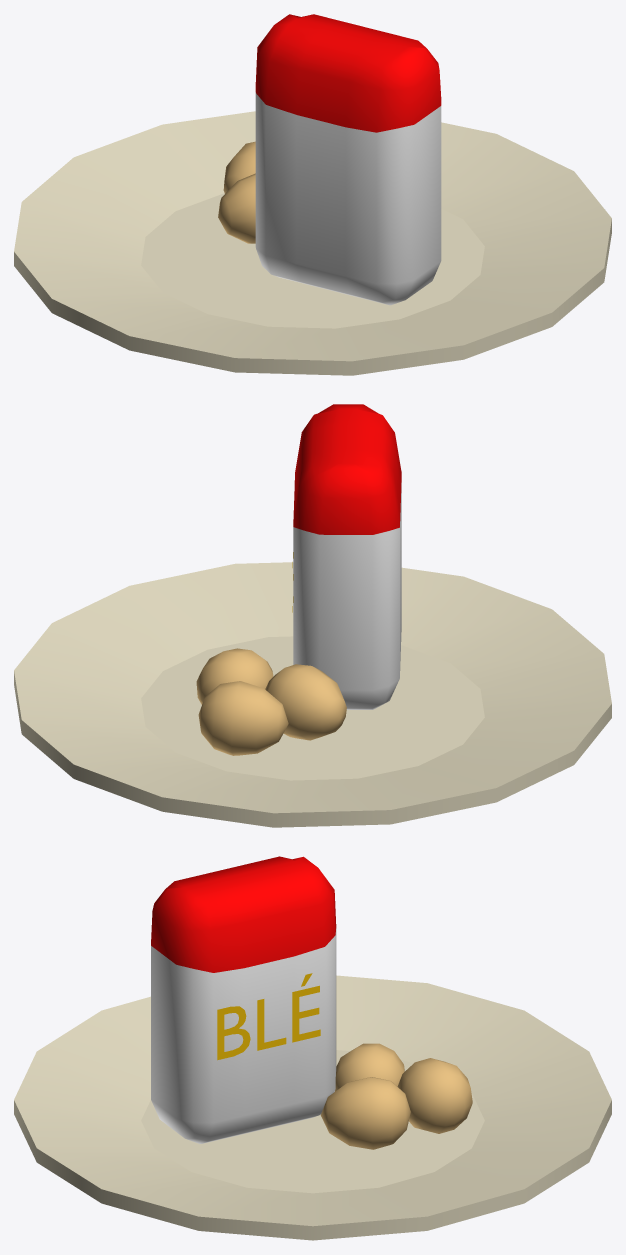
Rendered from PithiviersWashed.fbx.
3 views of the same model, one above another, from view 1: azimuth 30°, elevation 25°; view 2: azimuth 150°, elevation 25°; view 3: azimuth 270°, elevation 25° (orthographic).
Parts seen in each view (by area): view 1: Pithiviers_Washed; view 2: Pithiviers_Washed; view 3: Pithiviers_Washed.
Boxes of the visible parts, x1,y1,x2,y2 form: Pithiviers_Washed: [14, 14, 611, 375]; Pithiviers_Washed: [14, 404, 611, 827]; Pithiviers_Washed: [14, 856, 611, 1240].
Size of the model in its own units: 0.6488 by 0.6488 by 0.3284.
